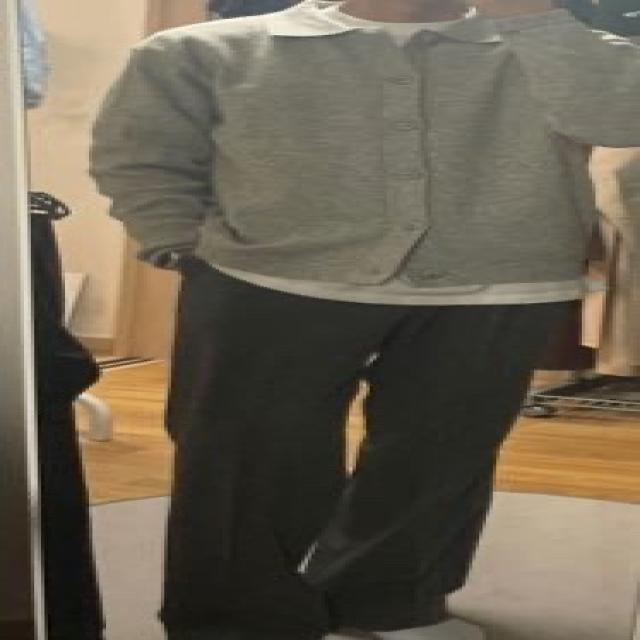cardigan: (85, 6, 640, 281)
slacks: (152, 246, 577, 640)
